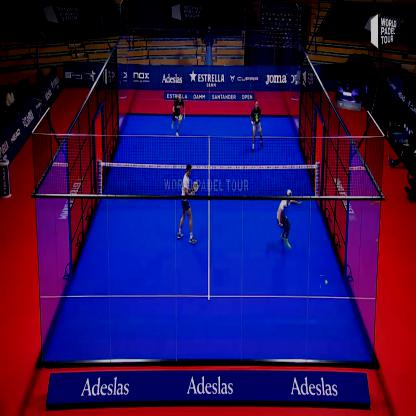ball: (320, 275, 332, 289)
